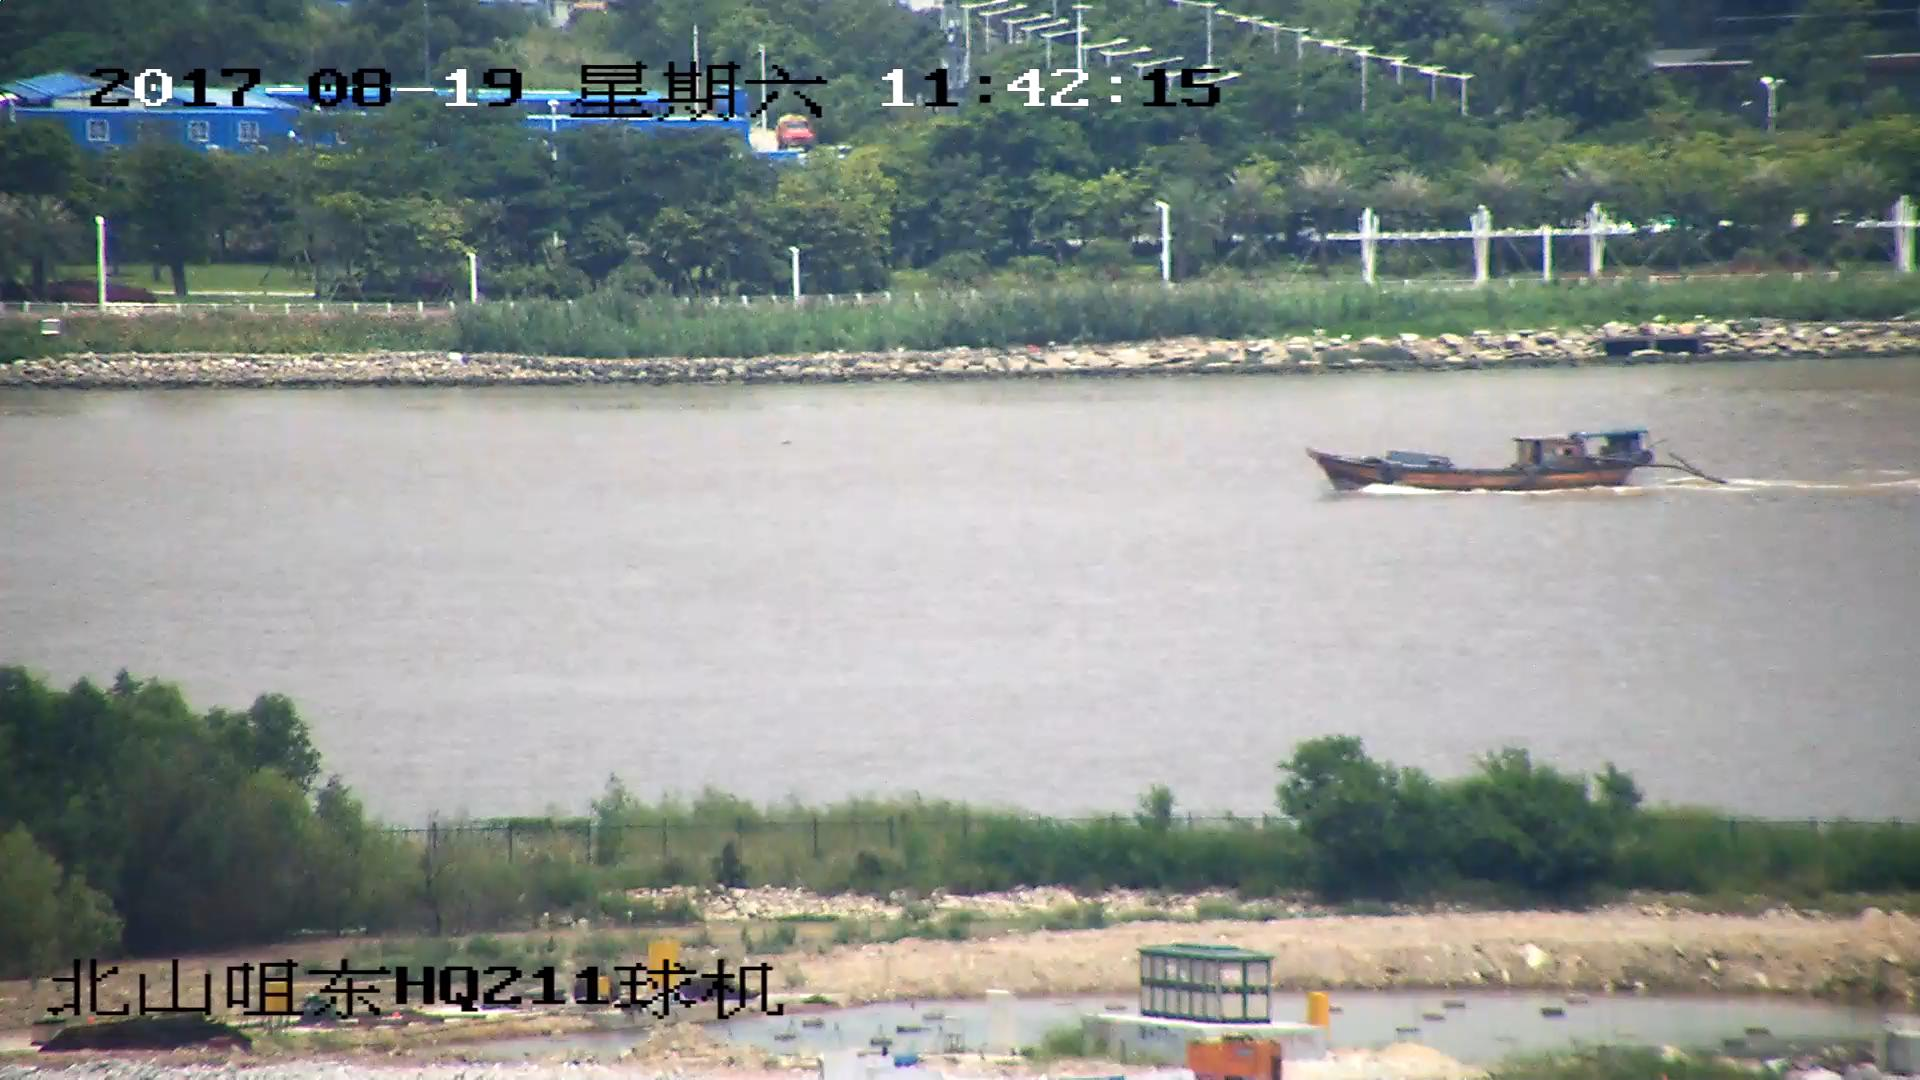fishing boat: (1307, 429, 1663, 492)
